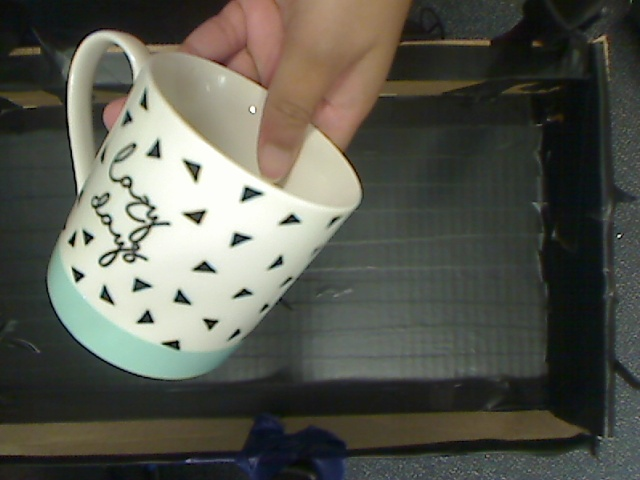mug: (40, 23, 363, 392)
